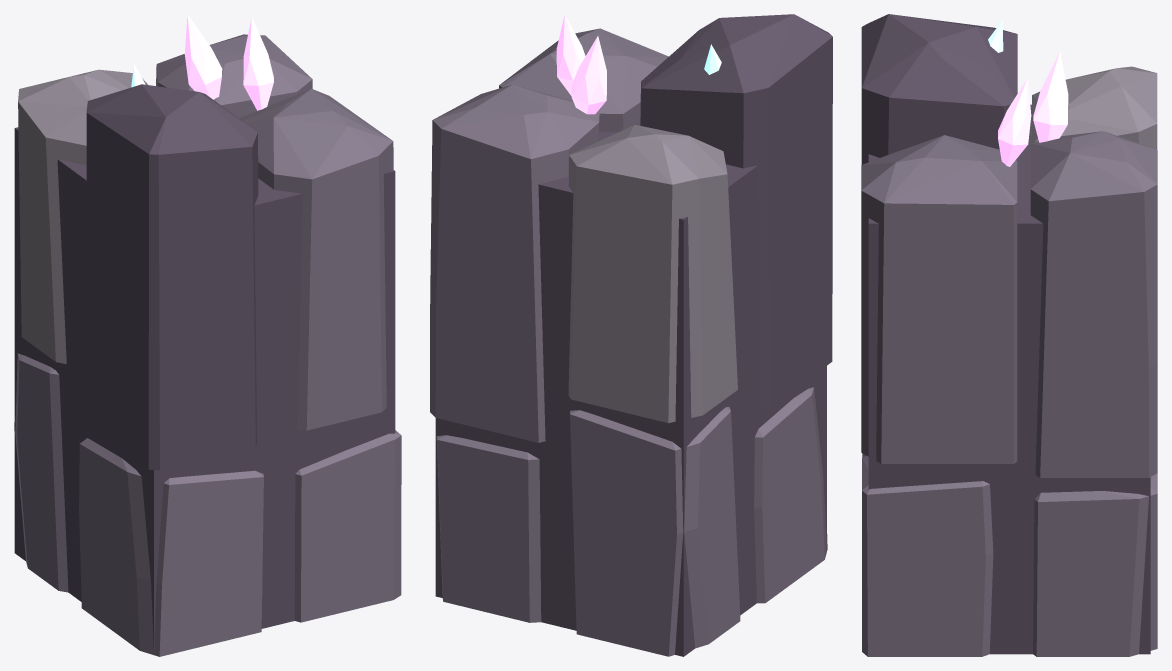
Rendered from RockWall_Tall_Crystal.glb.
3 renders of one model, left to right at view 1: azimuth 30°, elevation 25°; view 2: azimuth 150°, elevation 25°; view 3: azimuth 270°, elevation 25°, orthographic. The views are drawn at different scales.
Visible parts, largest first — view 1: RockWall_Tall_Crystal; view 2: RockWall_Tall_Crystal; view 3: RockWall_Tall_Crystal.
Boxes of the visible parts, left/top/right/bottom form: RockWall_Tall_Crystal: left=14, top=14, right=401, bottom=656; RockWall_Tall_Crystal: left=430, top=14, right=832, bottom=656; RockWall_Tall_Crystal: left=861, top=14, right=1157, bottom=656.
Size of the model in its own units: 0.9991 by 2.03 by 0.9983.
